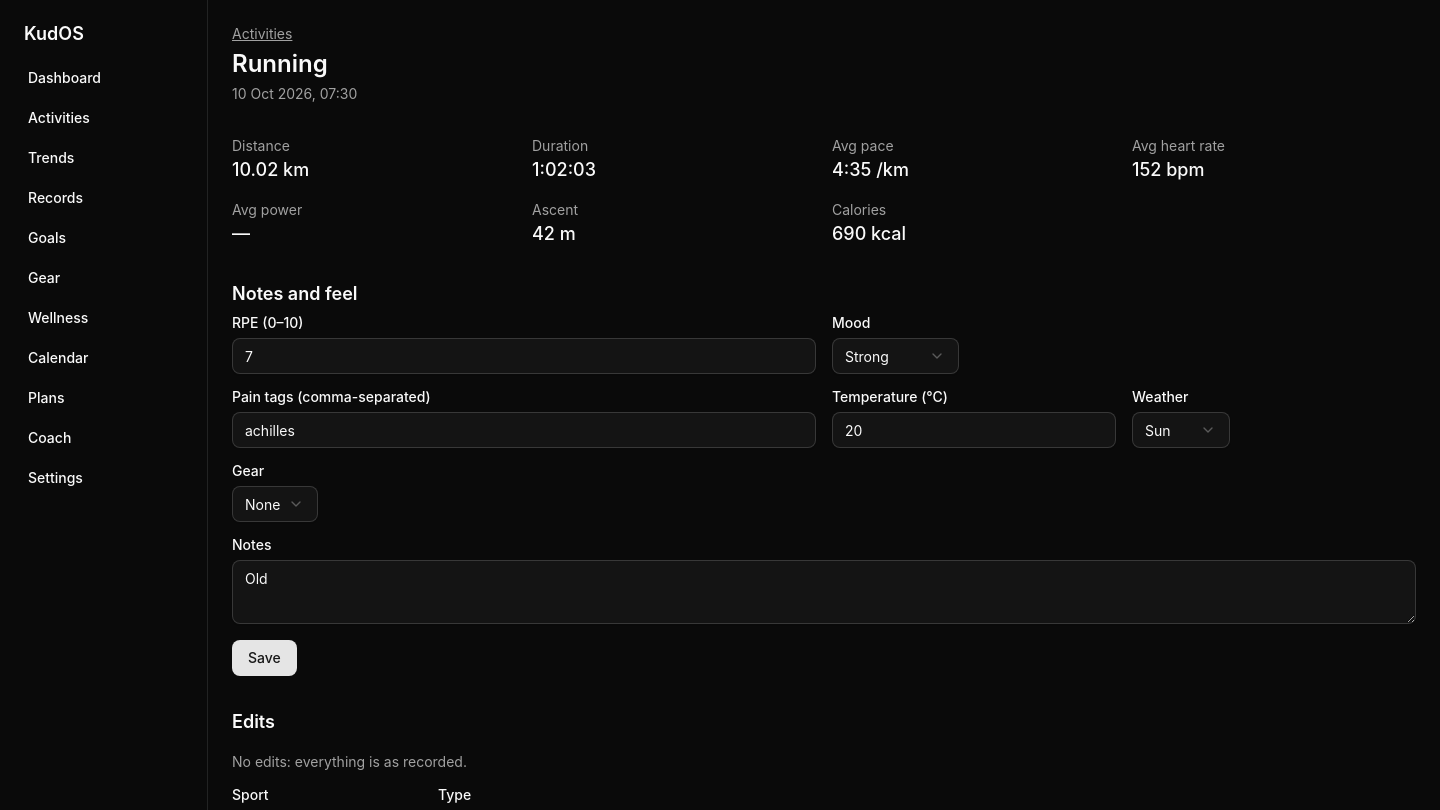
Test: ActivityDetailPage › notes and feel › clears every field
The image size is (1440, 810).
Expected: the field labelled "Pain tags (comma-separated)" holds "achilles", [232,412,816,448]
Clear the field labelled "RPE (0–10)": [524, 356] box [232,338,816,374]
Select "Not set" in the dropdown labelled "Mood": [896, 356] box [832,338,959,374]
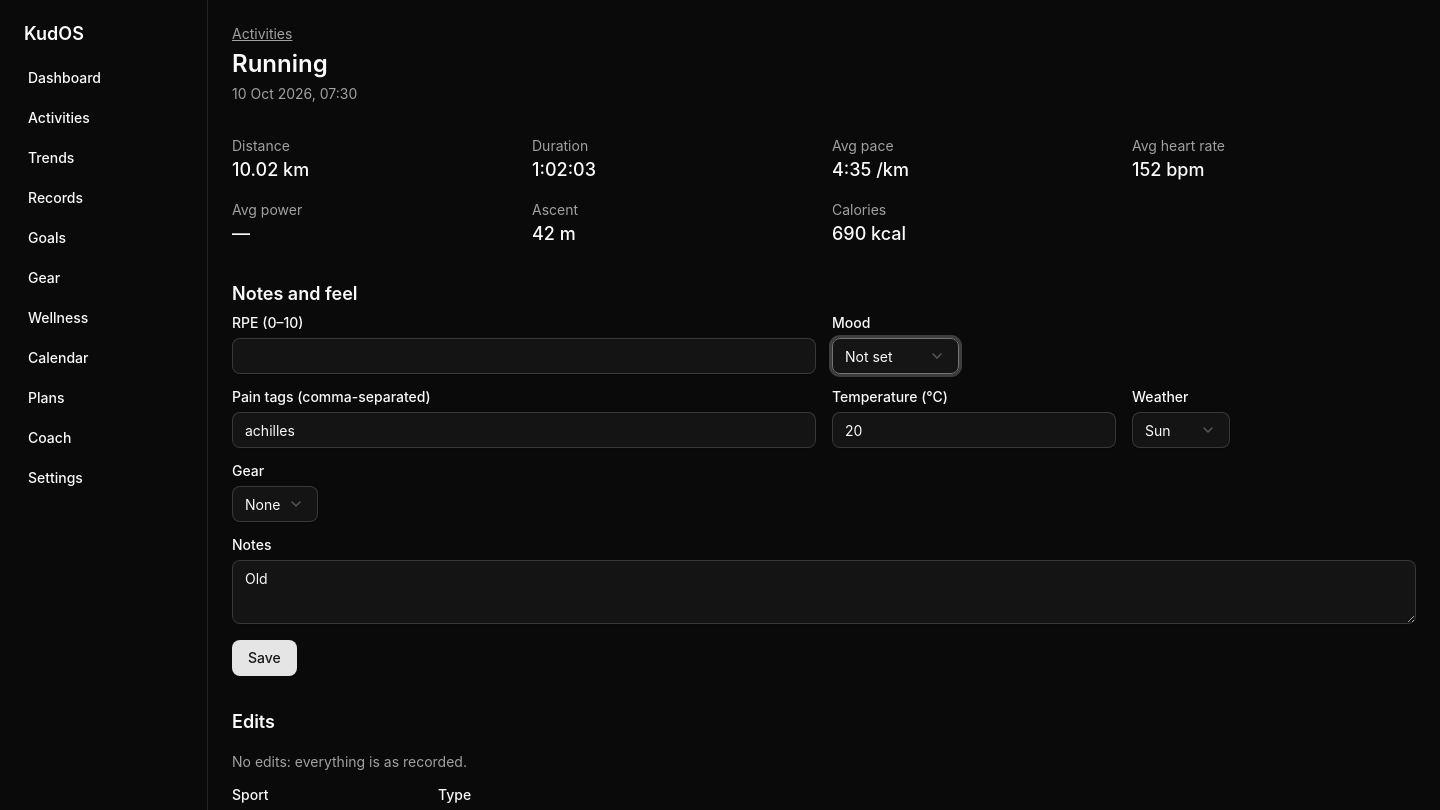
Clear the text box labelled "Notes": [824, 592] box [232,560,1416,624]
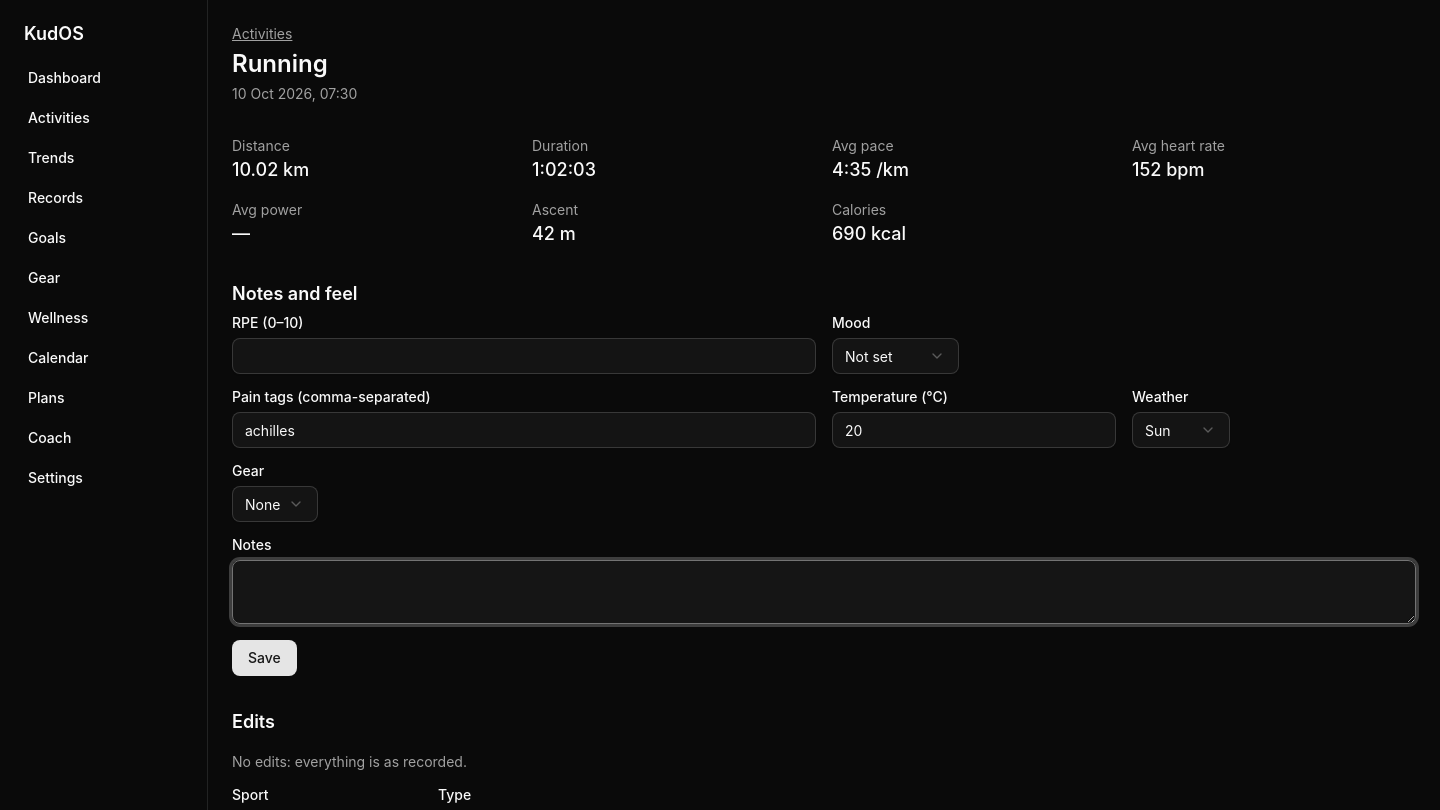
Clear the field labelled "Pain tags (comma-separated)": [524, 430] box [232,412,816,448]
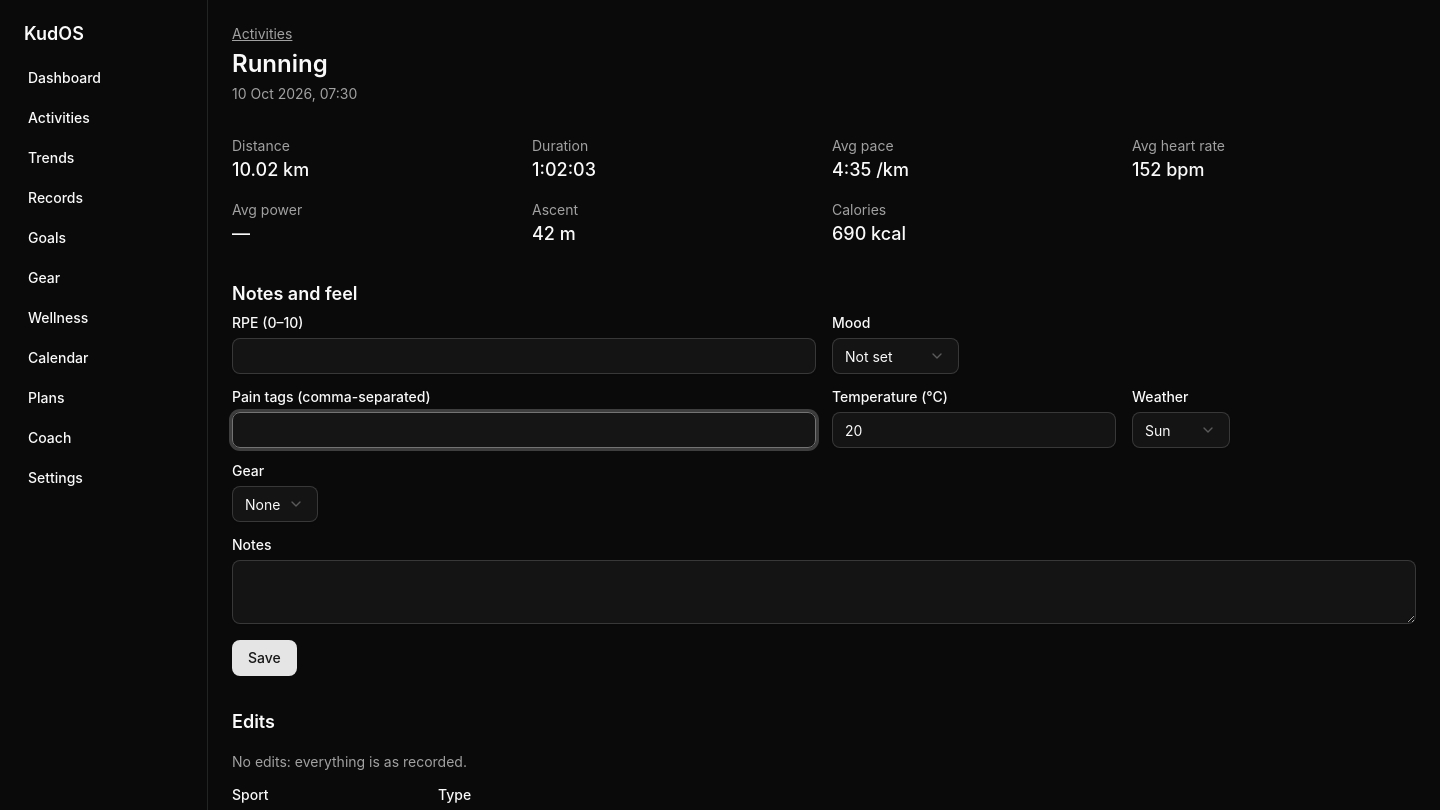
Clear the field labelled "Temperature (°C)": [974, 430] box [832,412,1116,448]
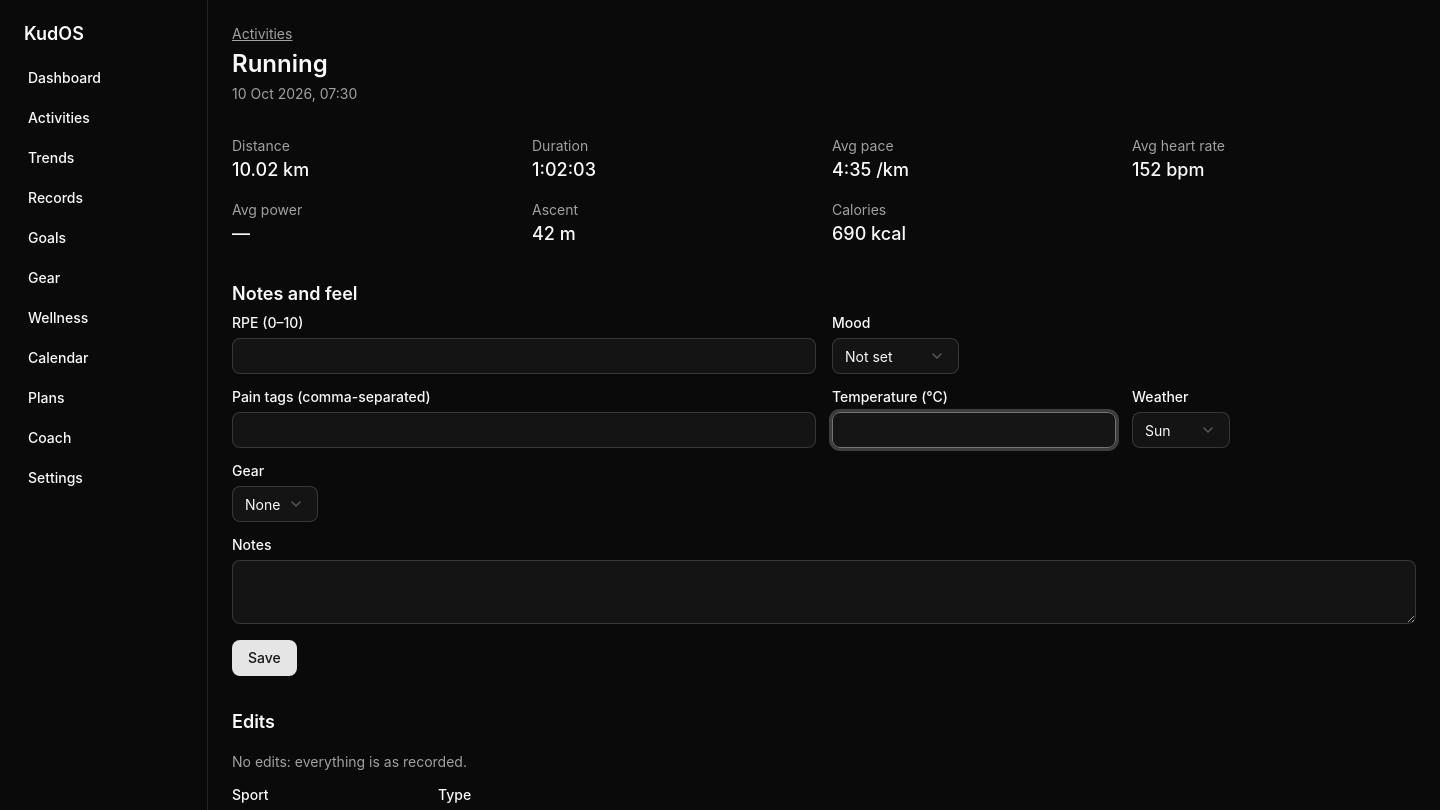
Select "Not set" in the dropdown labelled "Weather": [1181, 430] box [1132,412,1230,448]
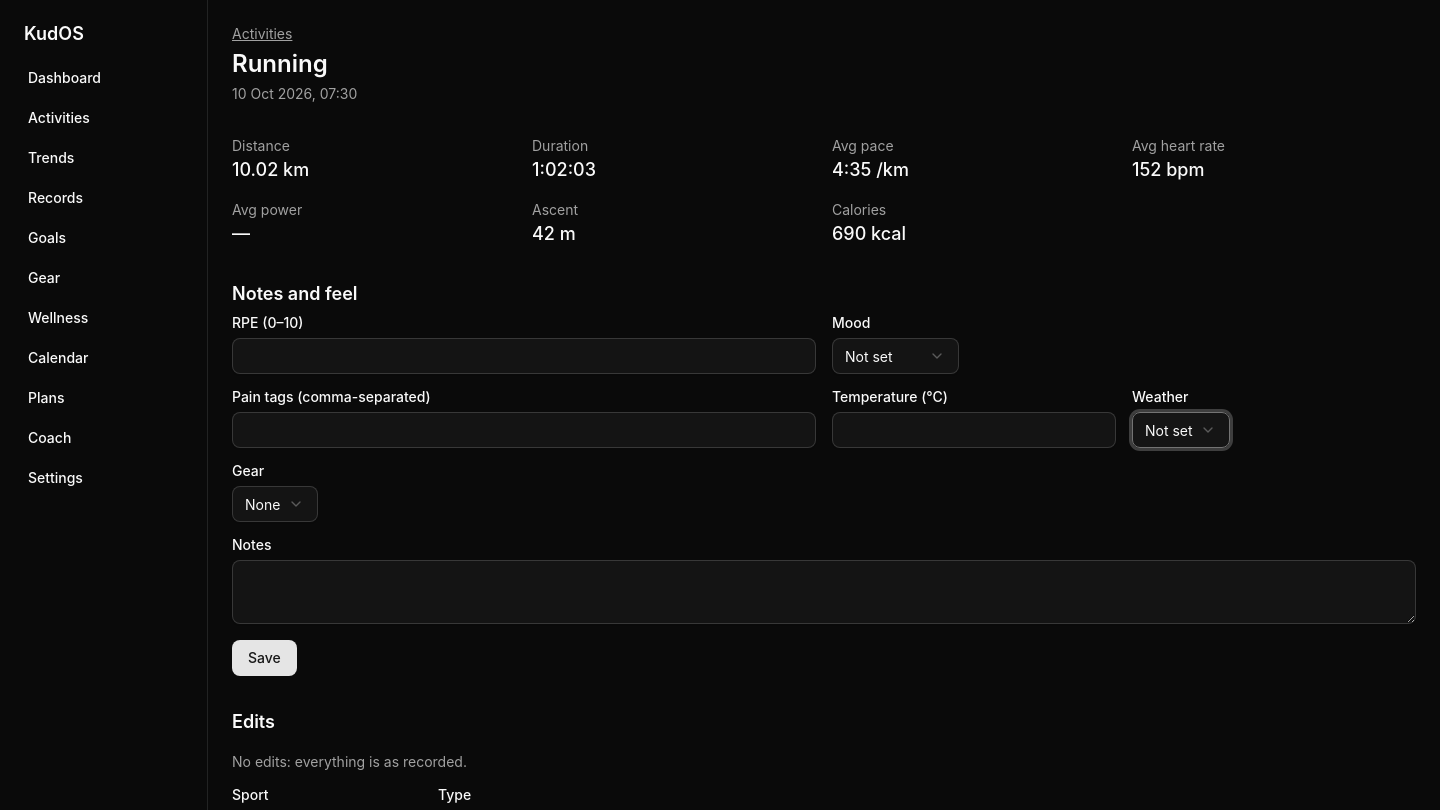
Click the button "Save": [264, 658] box [232,640,297,676]
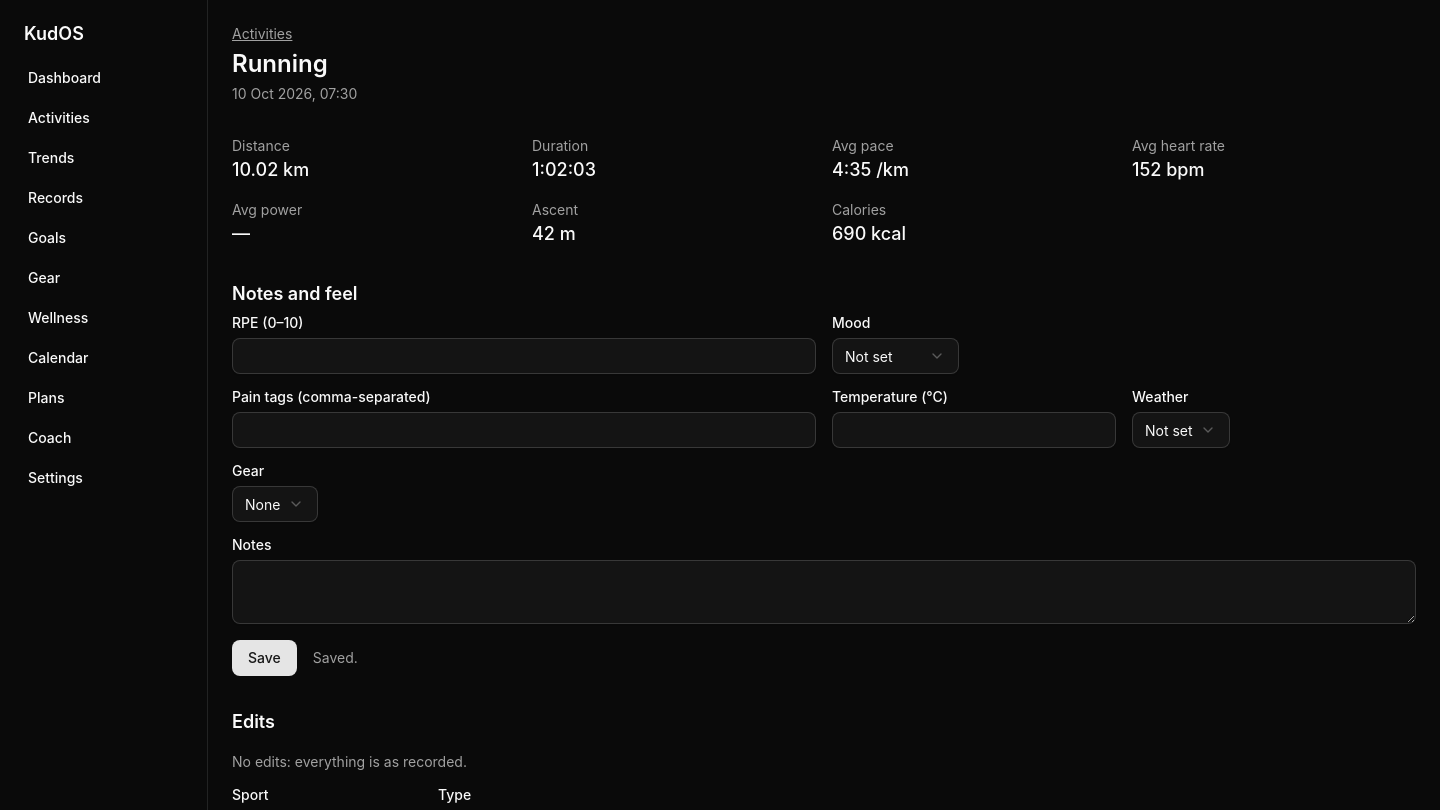
Expected: the text "Saved." is shown, [313,648,358,668]
